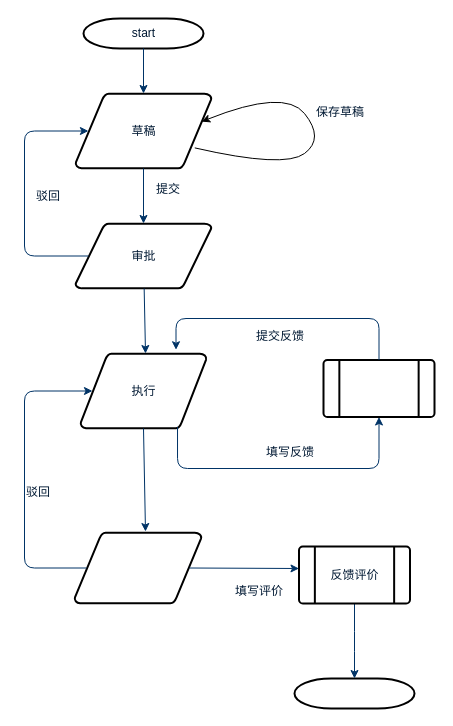
Some shapes in this 453 by 726 pixel diagram are drawn without their labels. Each missing label, with the centre of its shape:
"end" belongs at point (354, 693).
"反馈进展" belongs at point (378, 388).
"评价" belongs at point (137, 567).
